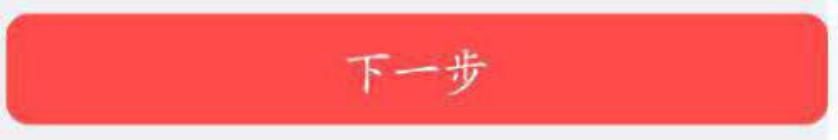Button: (1, 1, 837, 139)
